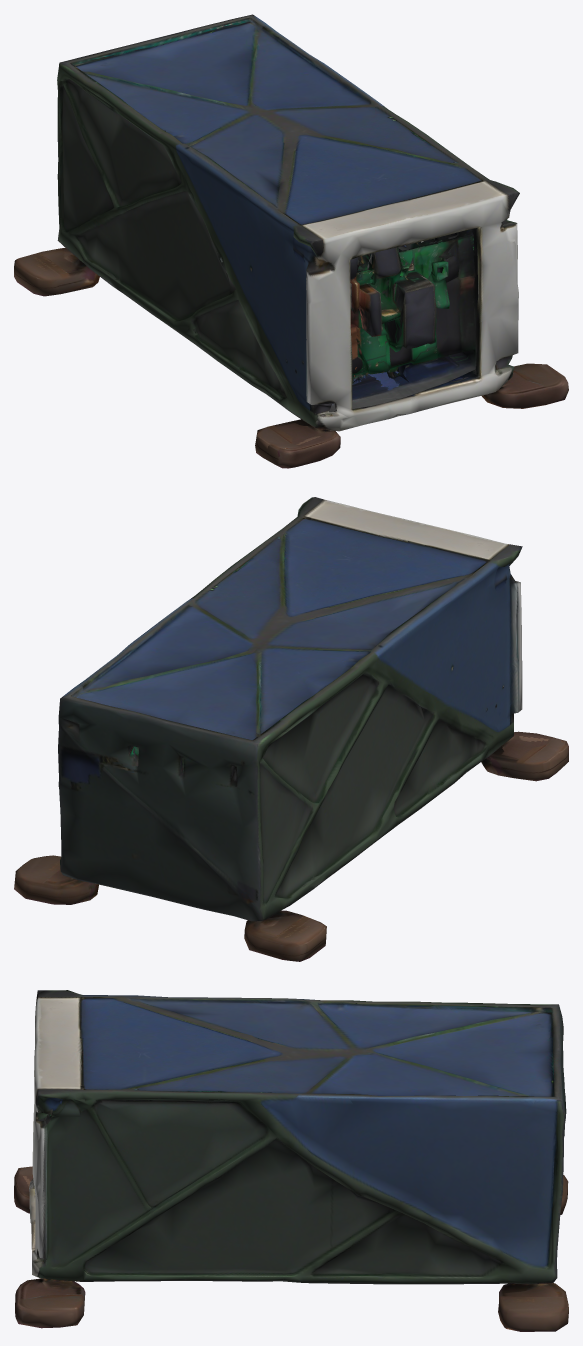
Rendered from somaiyaPOD.glb.
The picture shows the model from 3 angles, top to bottom: view 1: azimuth 30°, elevation 25°; view 2: azimuth 150°, elevation 25°; view 3: azimuth 270°, elevation 25°; orthographic projection.
Size of the model in its own units: 1.24 by 0.8677 by 2.
1 material, 1 textured.
